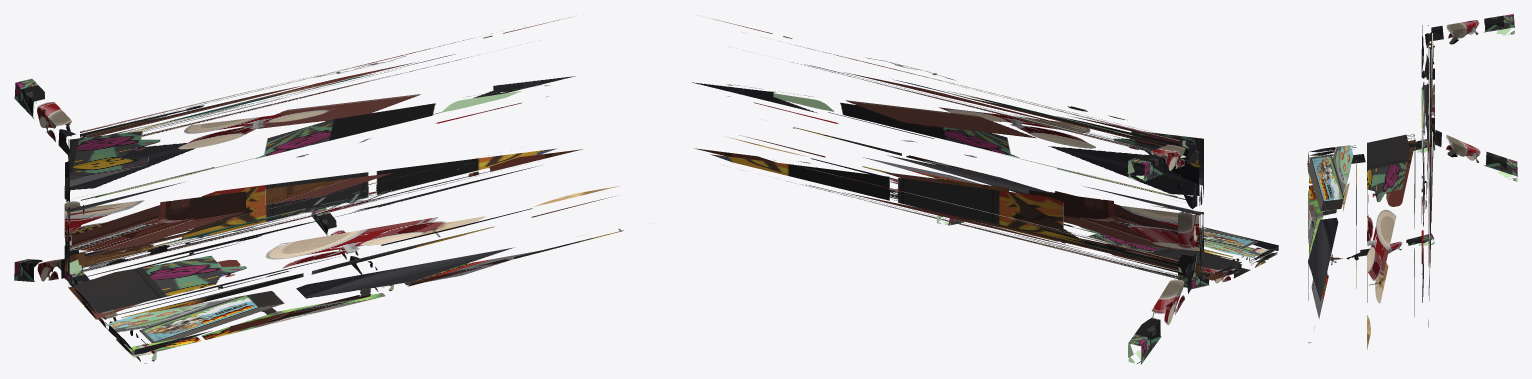
The picture shows the model from 3 angles, left to right: view 1: azimuth 30°, elevation 25°; view 2: azimuth 150°, elevation 25°; view 3: azimuth 270°, elevation 25°; orthographic projection. The views are drawn at different scales.
Size of the model in its own units: 1.9 by 0.6927 by 0.8144.
